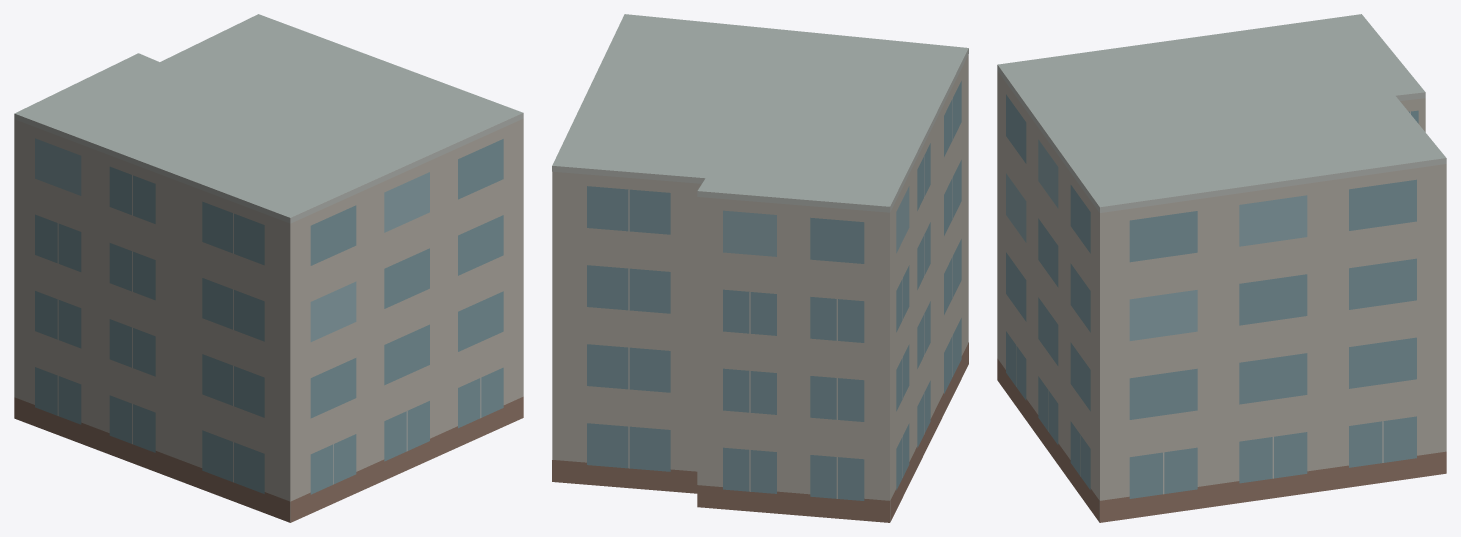
The model's file is survey-upis-32901236.glb.
3 renders of one model, left to right at view 1: azimuth 30°, elevation 25°; view 2: azimuth 150°, elevation 25°; view 3: azimuth 270°, elevation 25°, orthographic. The views are drawn at different scales.
Visible parts, largest first — view 1: survey-upis-32901236.tmp; view 2: survey-upis-32901236.tmp; view 3: survey-upis-32901236.tmp.
Boxes of the visible parts, left/top/right/bottom form: survey-upis-32901236.tmp: left=14, top=14, right=523, bottom=522; survey-upis-32901236.tmp: left=552, top=14, right=968, bottom=522; survey-upis-32901236.tmp: left=997, top=14, right=1446, bottom=522.
Size of the model in its own units: 17.15 by 13.05 by 16.84.
